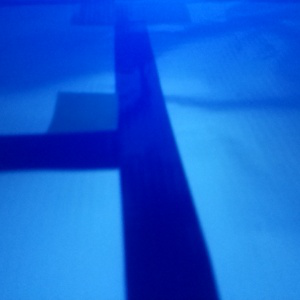bottom_left: (71, 1, 144, 26)
bottom_right: (116, 1, 192, 23)
top_left: (50, 90, 162, 169)
